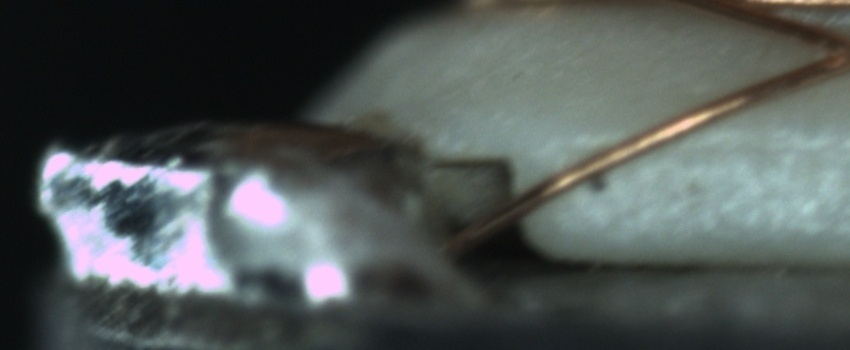CL: (797, 14, 848, 78)
DL: (568, 112, 844, 180)
